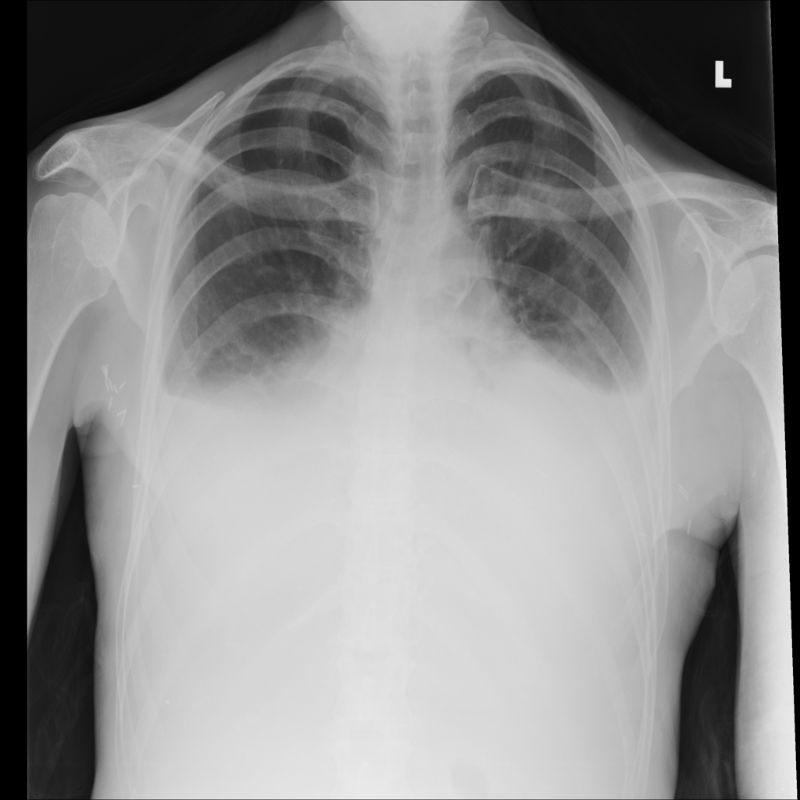PLEURAL EFFUSION: (147, 360, 263, 489), (585, 358, 664, 505)
